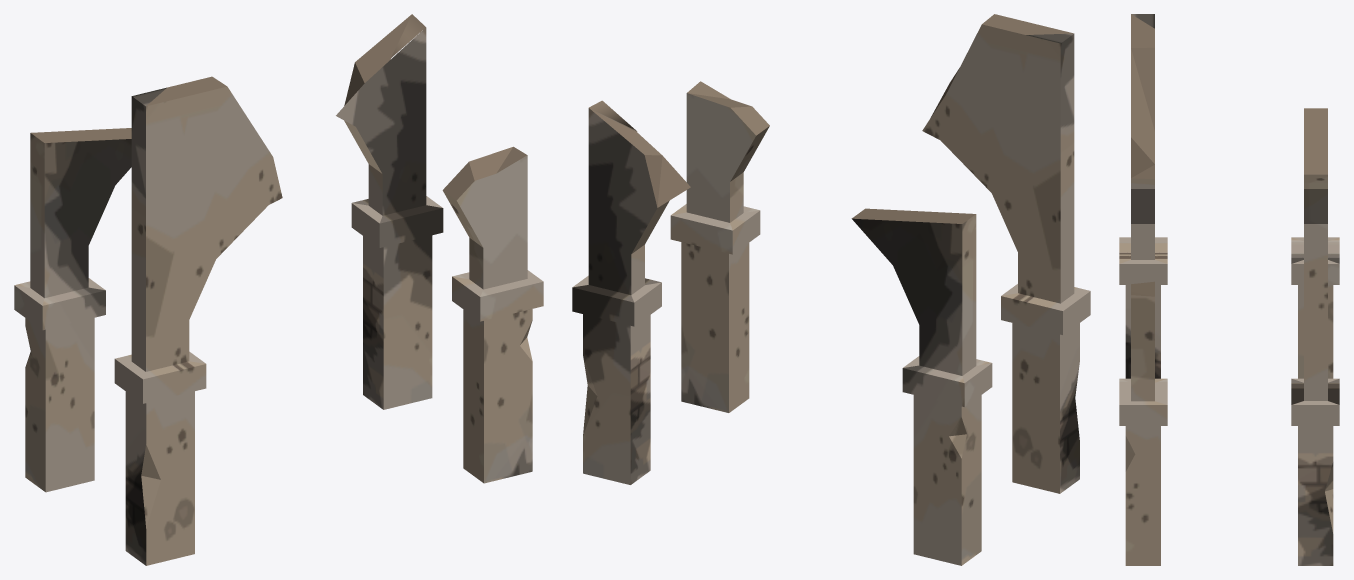
File: SM_Bld_Village_ArchwayBridge_02_Destroyed.glb
3 views of the same model, side by side, from view 1: azimuth 30°, elevation 25°; view 2: azimuth 150°, elevation 25°; view 3: azimuth 270°, elevation 25° (orthographic). The views are drawn at different scales.
Parts seen in each view (by area): view 1: SM_Bld_Village_ArchwayBridge_02_Destroyed; view 2: SM_Bld_Village_ArchwayBridge_02_Destroyed; view 3: SM_Bld_Village_ArchwayBridge_02_Destroyed.
Boxes of the visible parts, x1,y1,x2,y2 form: SM_Bld_Village_ArchwayBridge_02_Destroyed: [14, 14, 543, 565]; SM_Bld_Village_ArchwayBridge_02_Destroyed: [572, 14, 1090, 565]; SM_Bld_Village_ArchwayBridge_02_Destroyed: [1119, 14, 1339, 565].
Size of the model in its own units: 4.11 by 4.48 by 2.29.
1 material, 1 textured.
